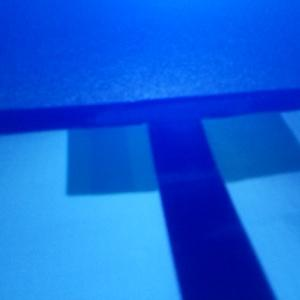bottom_left: (67, 104, 199, 195)
bottom_right: (158, 97, 299, 182)
